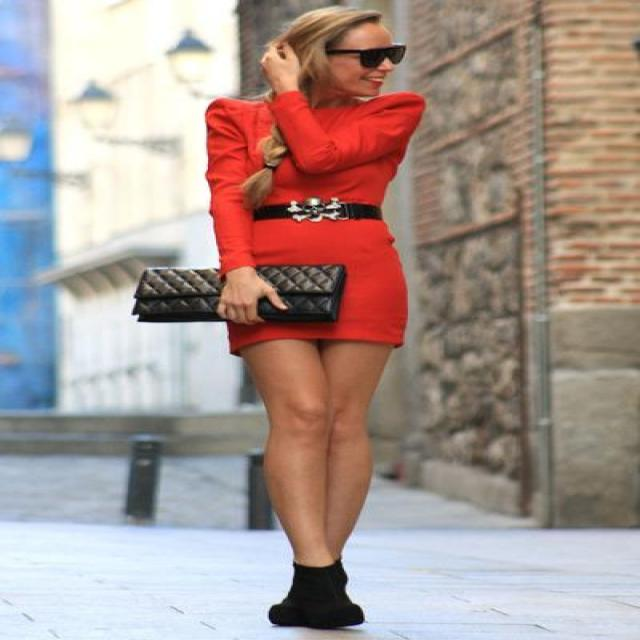bag: (134, 264, 346, 328)
dress: (205, 92, 424, 357)
shoe: (269, 557, 366, 629)
sunglass: (326, 46, 404, 68)
